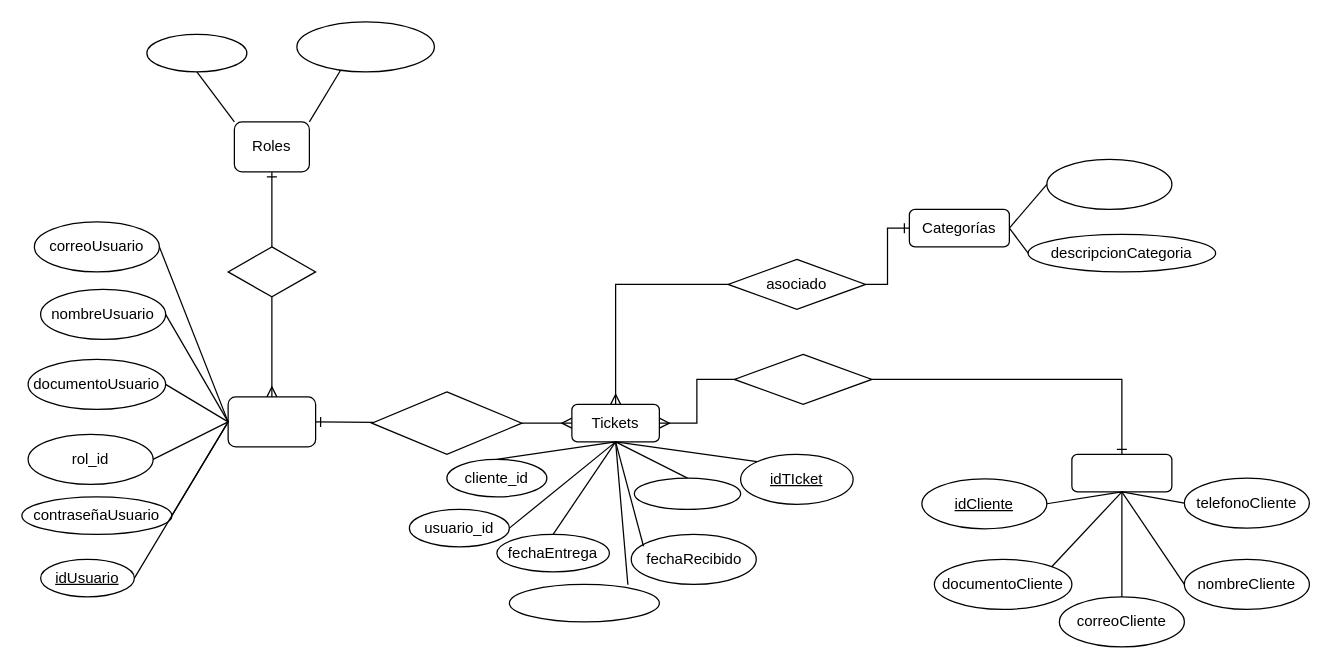
The diagram is 1331 pixels wide and 669 high, and some of its shapes have lost their labels. The centre of each missing label's shape, as x and y in pixels:
"administra" goes at point (446, 422).
"atribuido" goes at point (802, 378).
"categoria_id" goes at point (687, 493).
"Clientes" goes at point (1121, 472).
"descripcionRol" goes at point (365, 46).
"descripcionTicket" goes at point (583, 602).
"idCategoria" goes at point (1109, 183).
"idRol" goes at point (196, 52).
"tiene" goes at point (271, 271).
"Usuarios" goes at point (271, 421).
